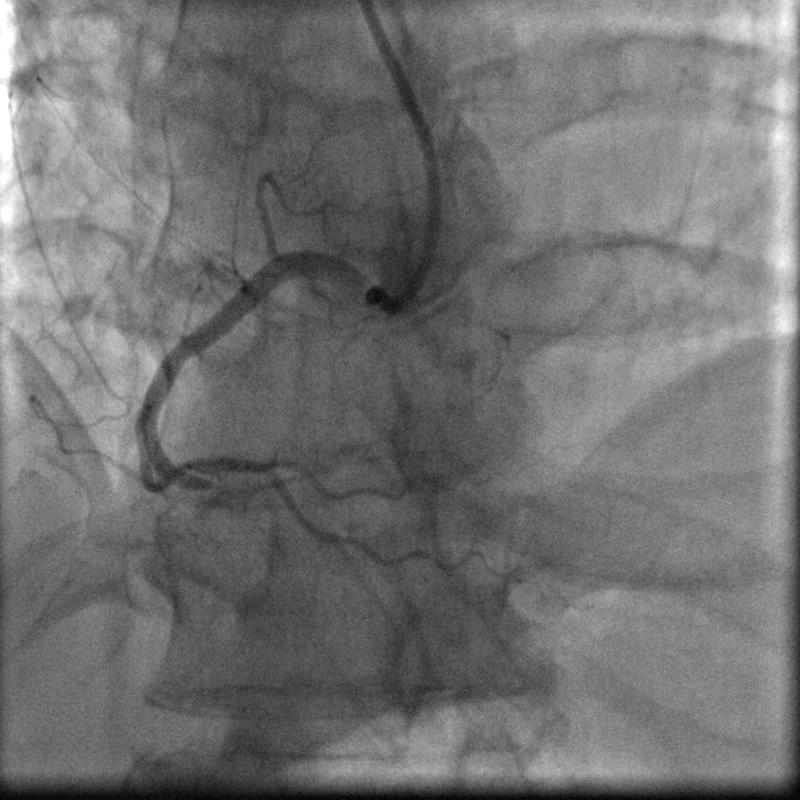Stenosis: (181, 466, 236, 502)
